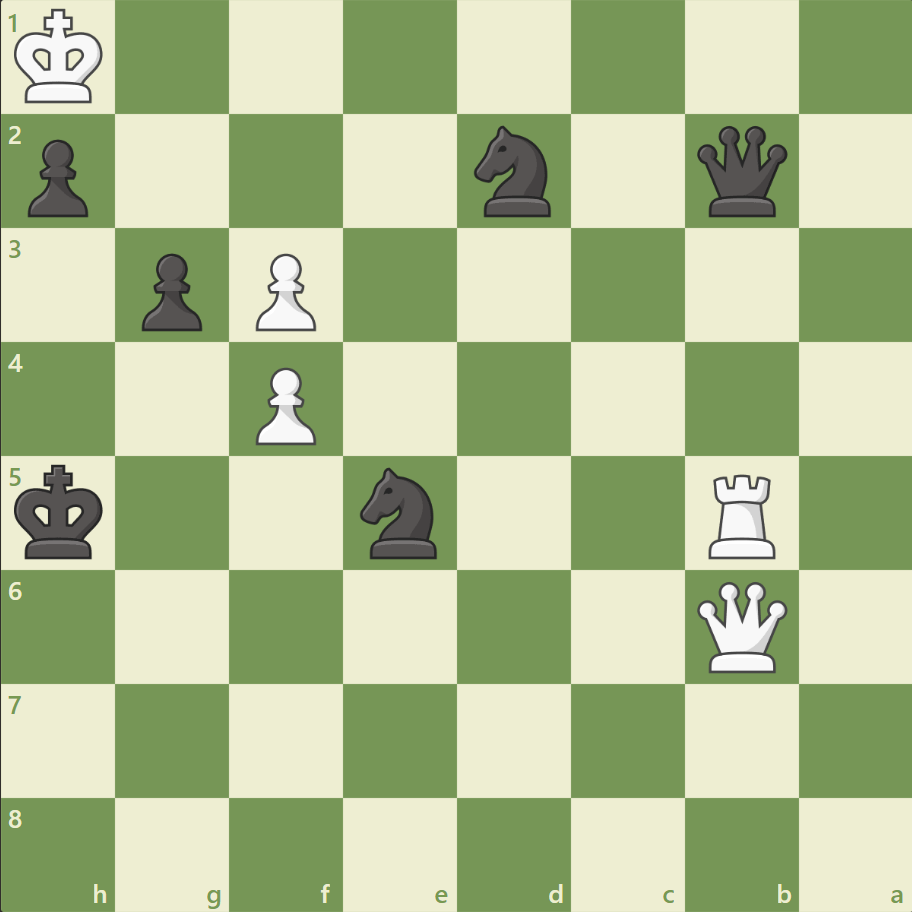K: (11, 4, 111, 112)
P: (247, 359, 322, 450), (247, 246, 322, 337)
Q: (691, 576, 790, 676)
R: (700, 466, 783, 563)
k: (11, 458, 111, 566)
n: (351, 461, 449, 564), (465, 121, 562, 223)
p: (133, 246, 208, 337), (20, 132, 95, 223)
q: (691, 122, 790, 222)
